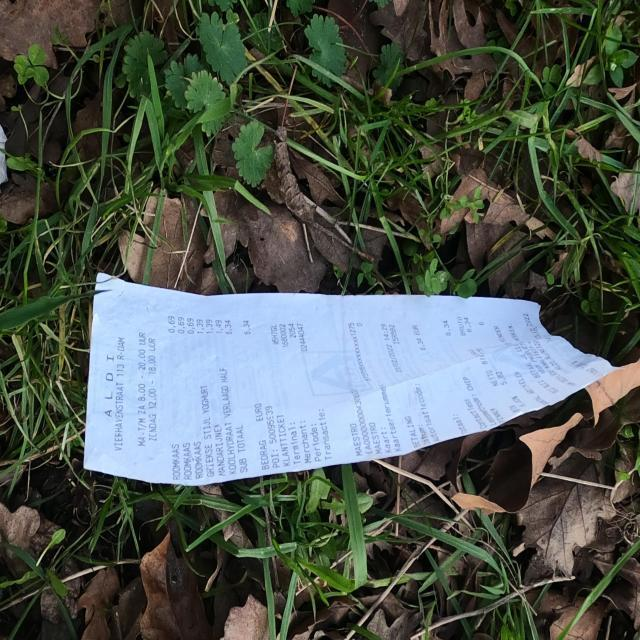Paper: (83, 268, 632, 486)
